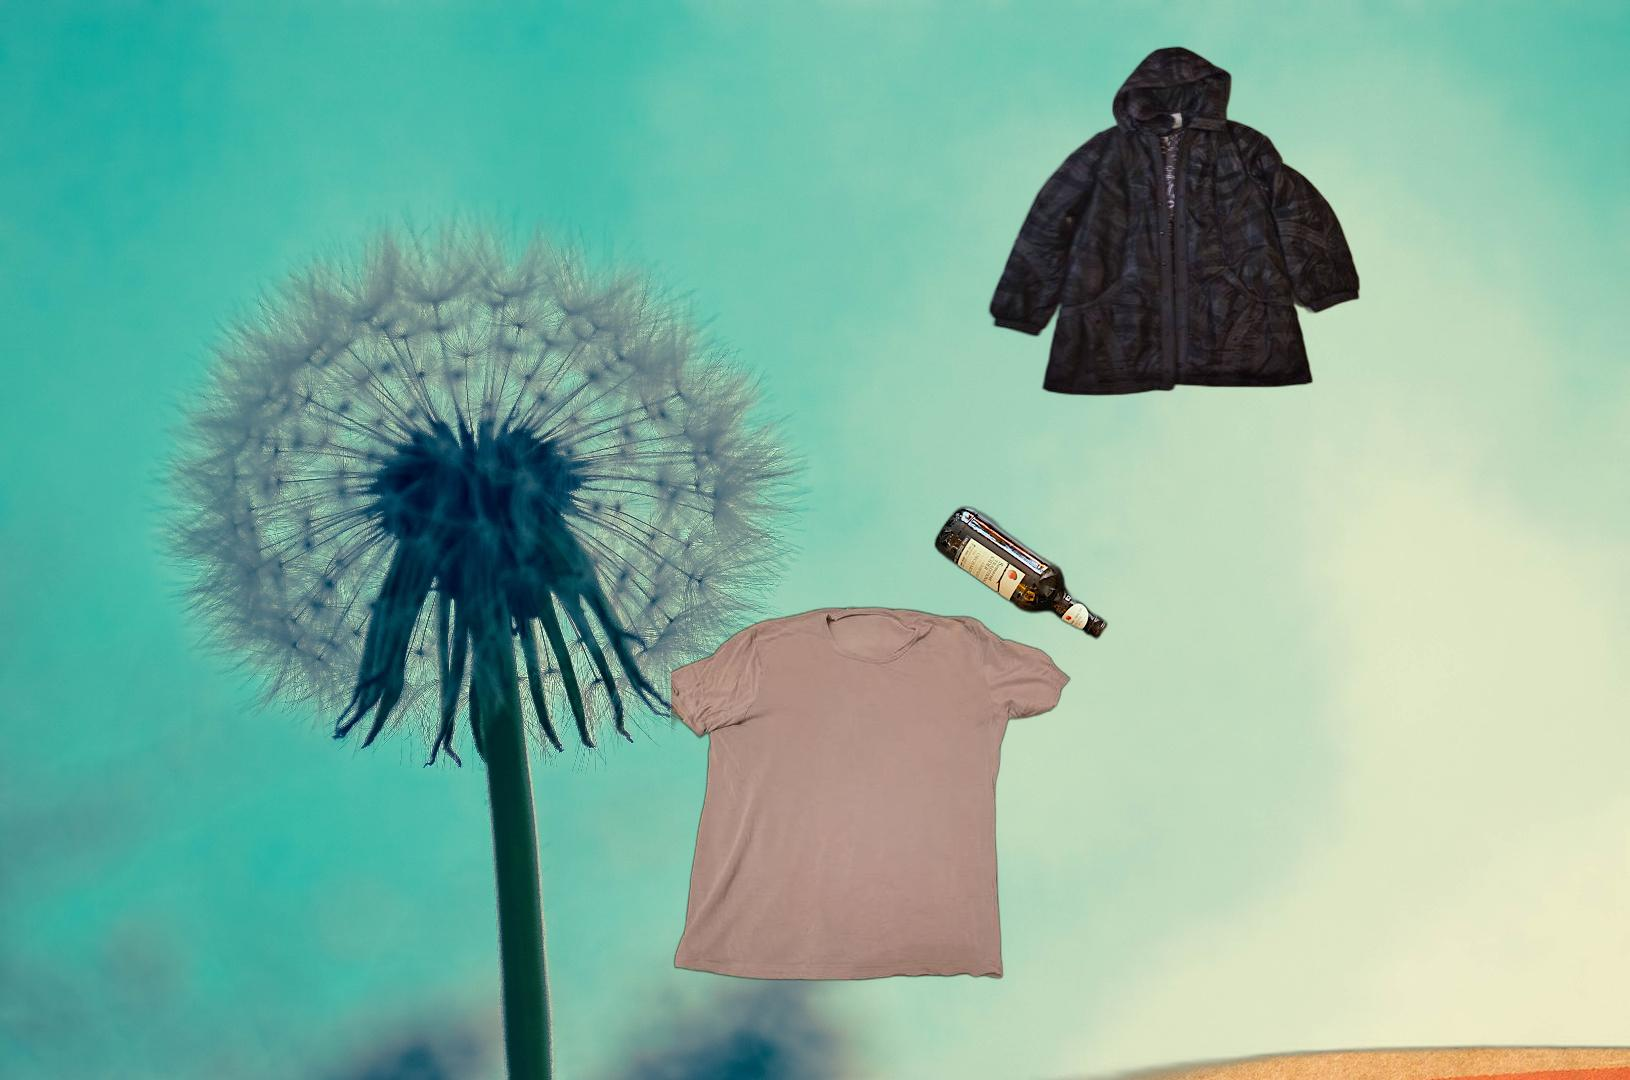clothes: (671, 573, 1071, 985), (985, 43, 1364, 399)
glass: (931, 500, 1111, 644)
trashbox-cardboard: (545, 1035, 1630, 1080)
